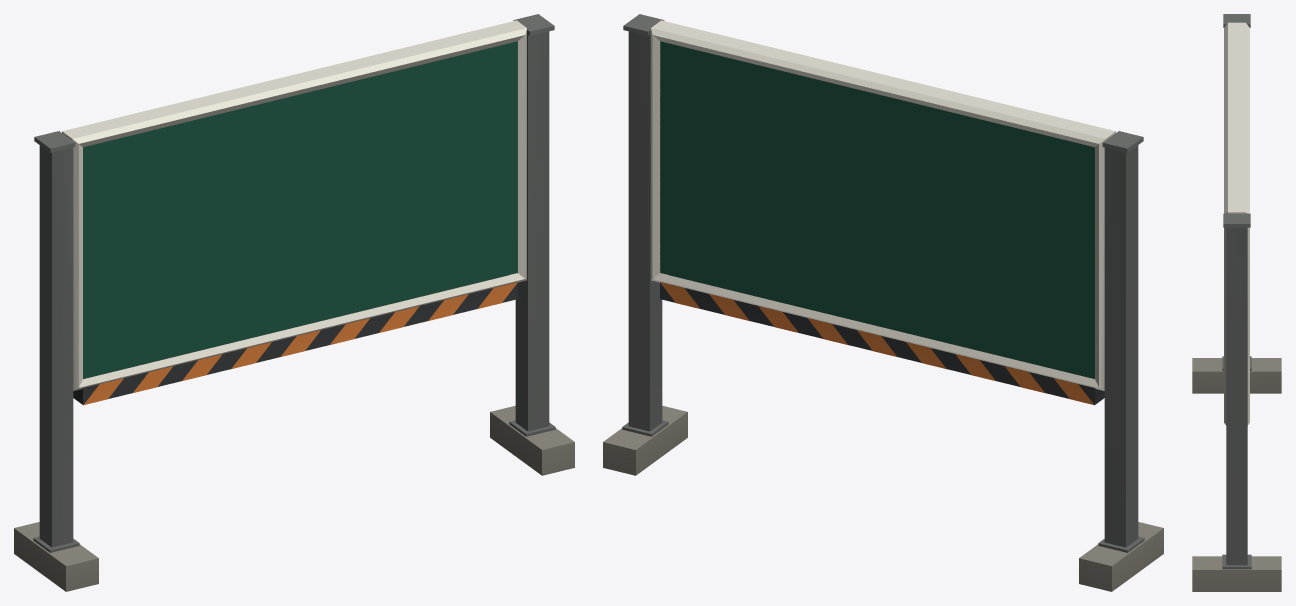
Rendered from overflow-sign.glb.
3 views of the same model, side by side, from view 1: azimuth 30°, elevation 25°; view 2: azimuth 150°, elevation 25°; view 3: azimuth 270°, elevation 25° (orthographic). The views are drawn at different scales.
Visible parts, largest first — view 1: Faces, Frame; view 2: Faces, Frame; view 3: Frame.
Boxes of the visible parts, x1,y1,x2,y2 form: Faces: (83,41,517,378); Frame: (14,14,574,591); Faces: (660,41,1094,378); Frame: (603,14,1163,591); Frame: (1192,14,1281,591).
Bounding box in the file's own units: 6.2 × 5.02 × 1.1.
